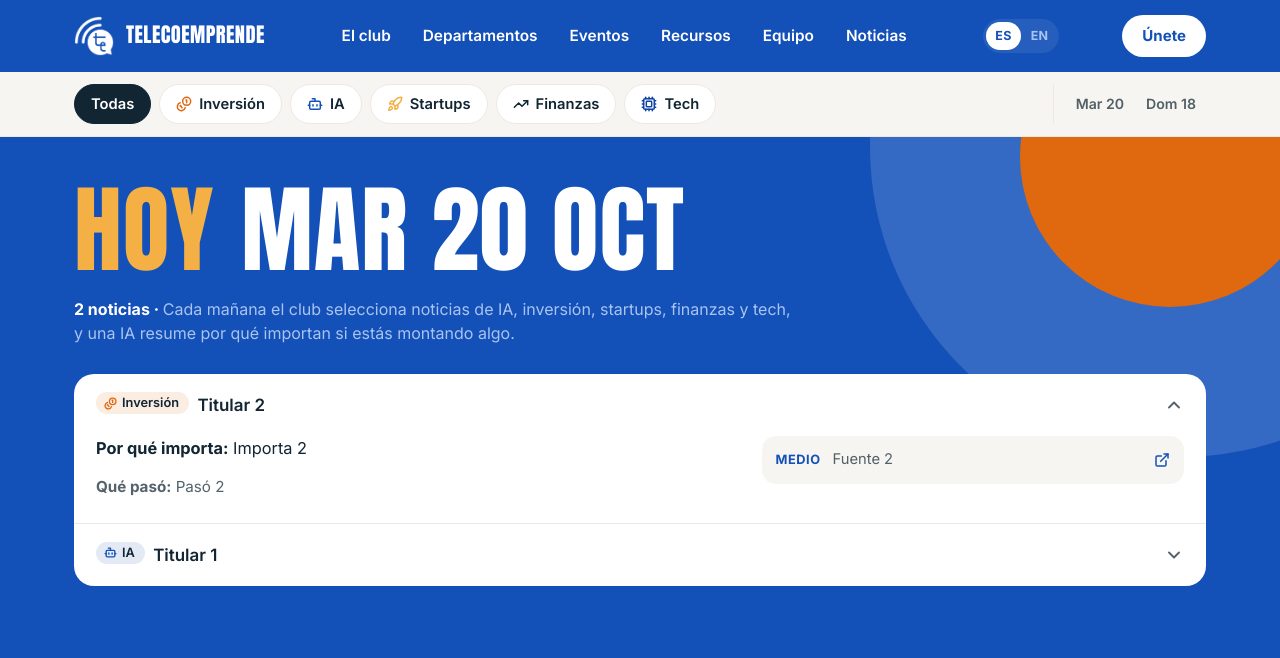
Test: NewsPage › el filtro de tema deja solo ese tema
Check: the button "Inversión Titular 2" is shown, box [74,374,1206,436]
Click the button "Startups".
click(429, 104)  # box [370,84,488,124]
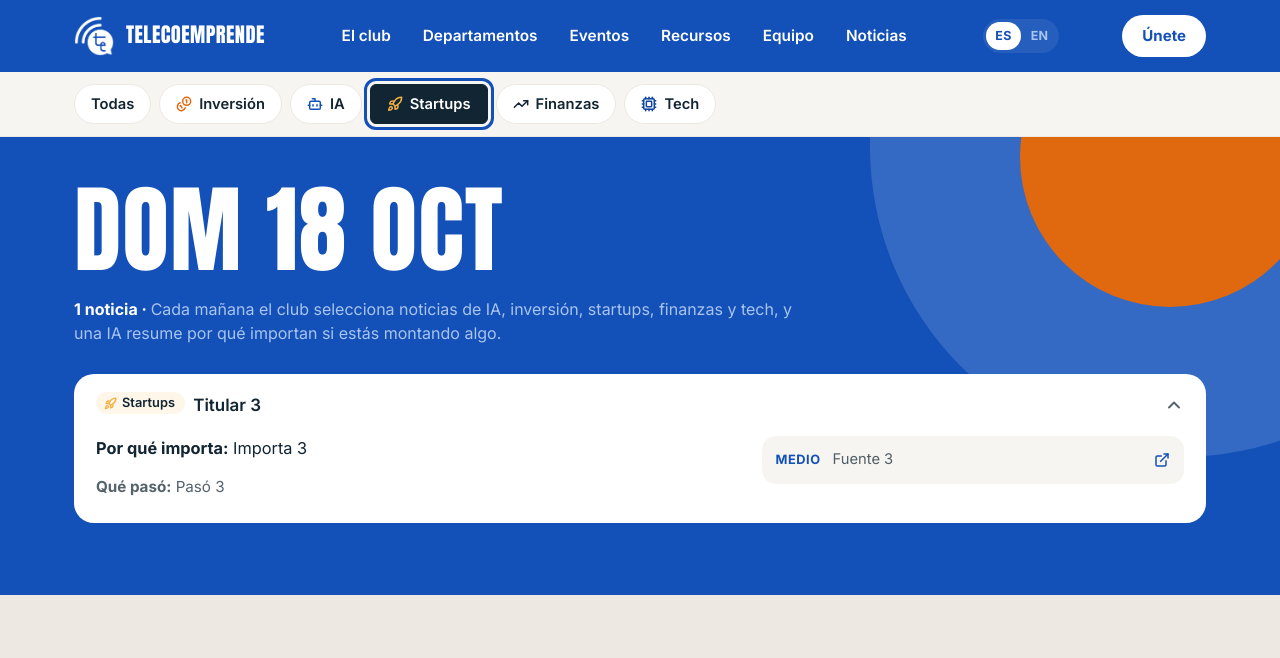
Check: the button "Titular 2" is gone
